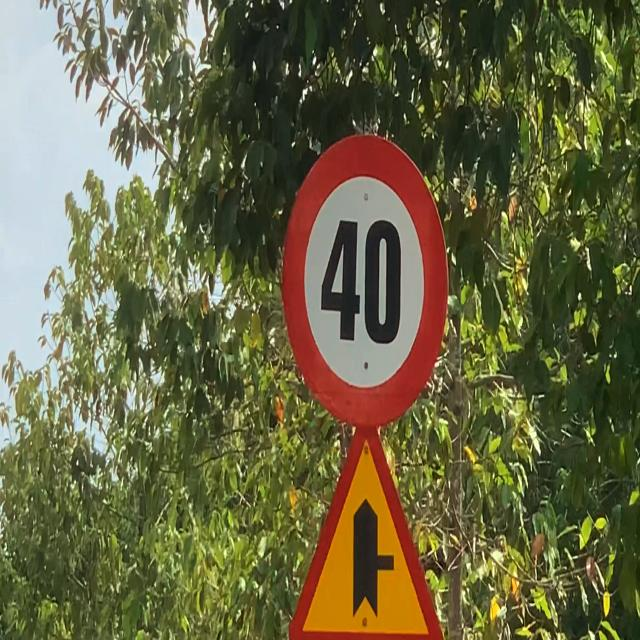Giao voi duong khong uu tien: (285, 413, 447, 640)
Toc do toi da: (280, 131, 450, 433)
